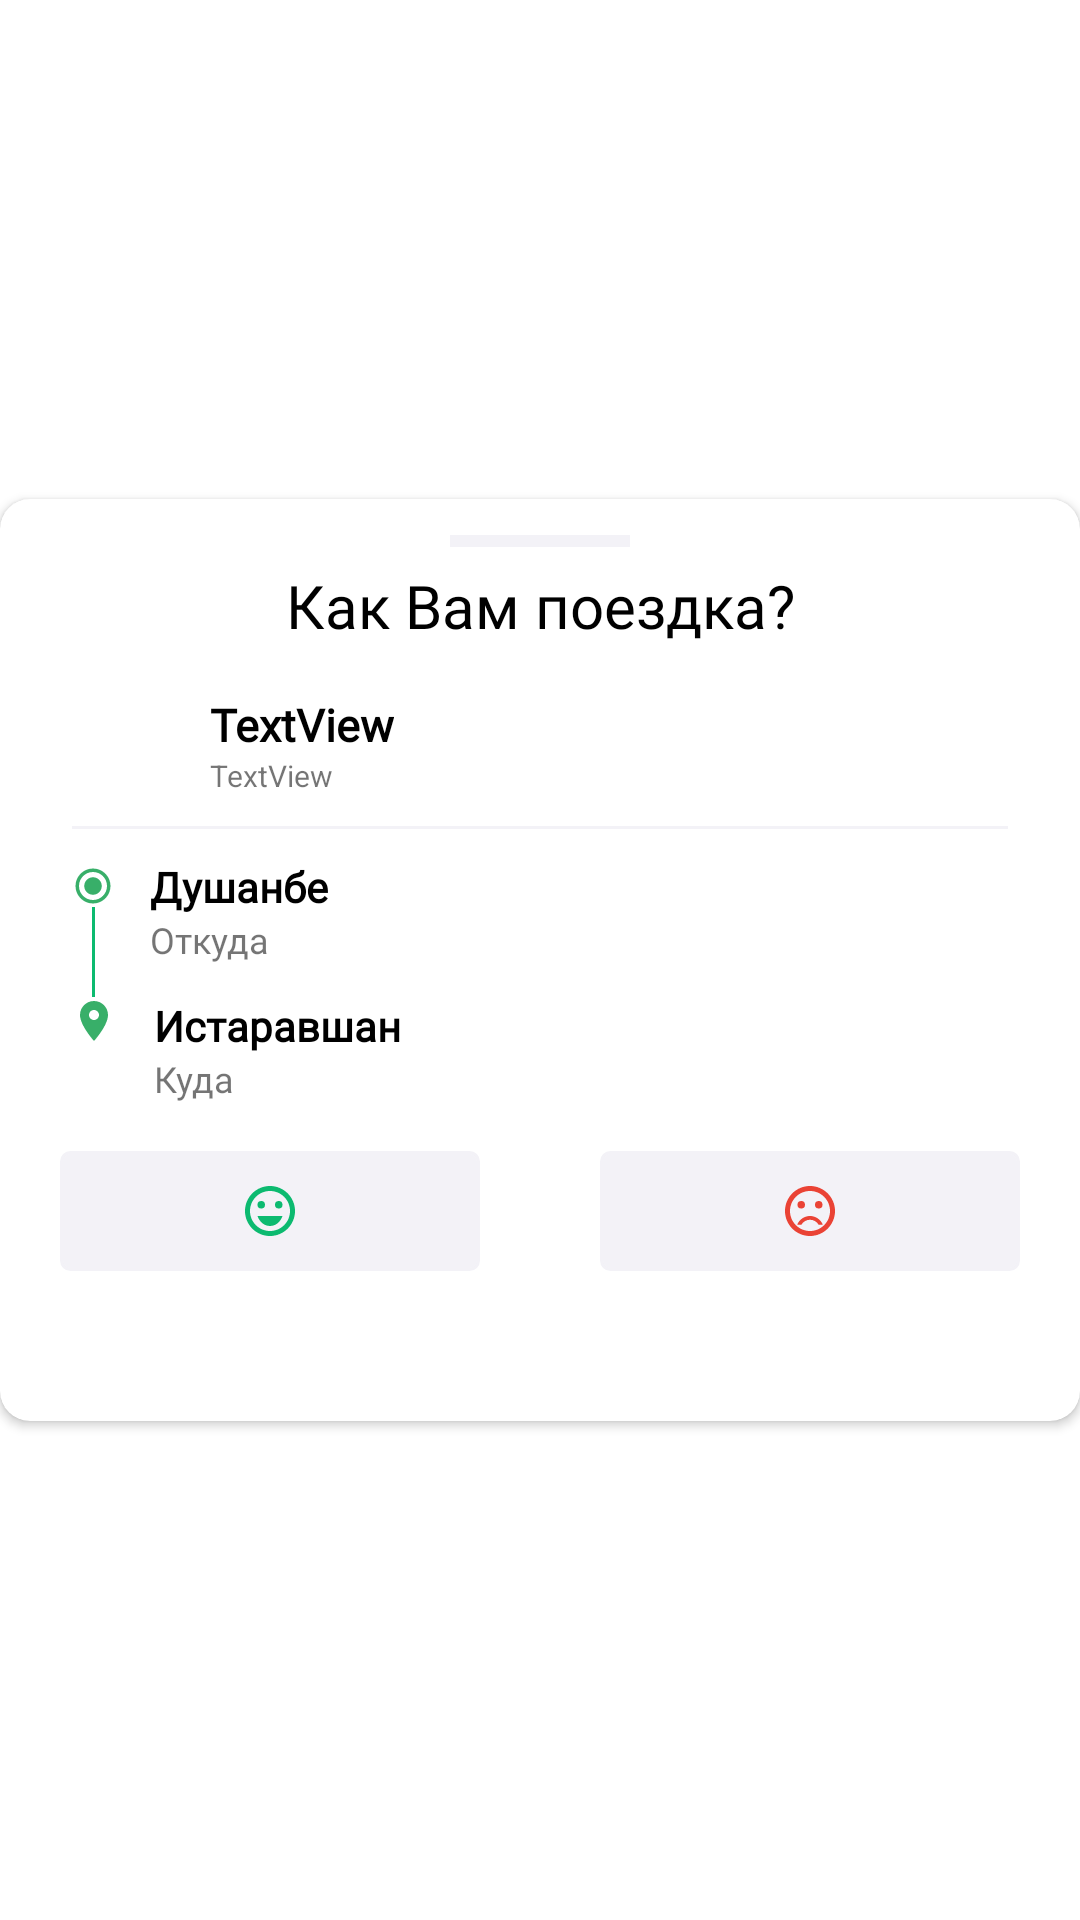

Screen size 1080*1920. Icon name, then its center in pixels as (x=x, y=y):
location on: (x=94, y=1021)
radio checked: (x=93, y=886)
